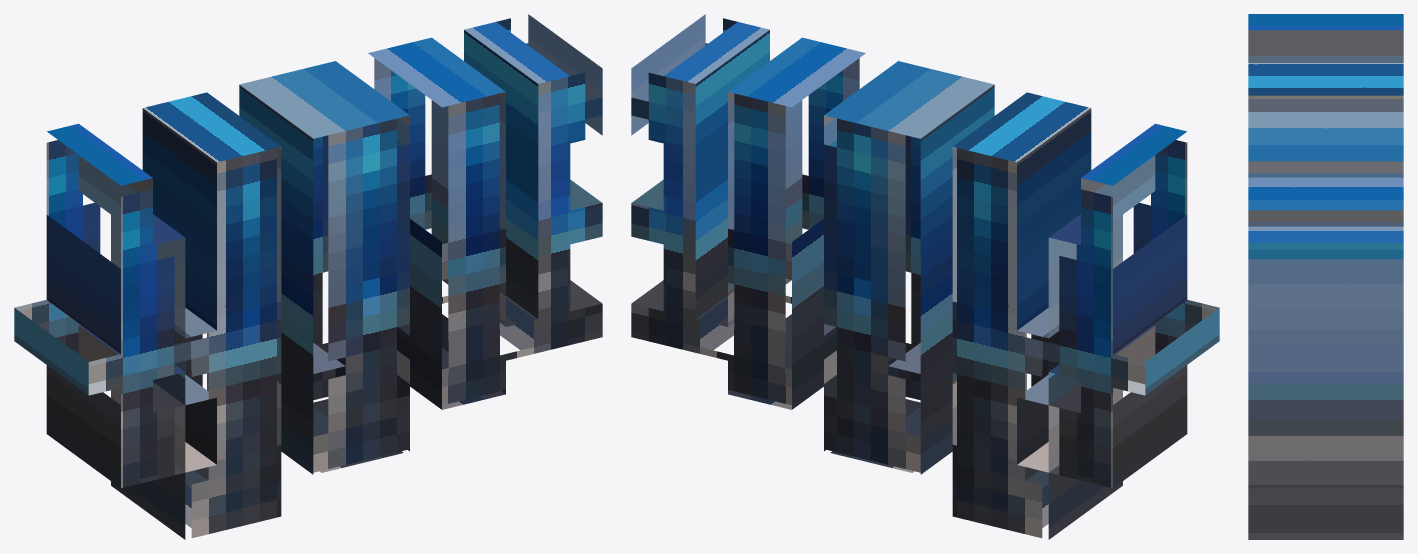
The model's file is slugs.obj.
The picture shows the model from 3 angles, left to right: view 1: azimuth 30°, elevation 25°; view 2: azimuth 150°, elevation 25°; view 3: azimuth 270°, elevation 25°; orthographic projection. The views are drawn at different scales.
Bounding box in the file's own units: 0.1374 × 0.1031 × 0.0344.
